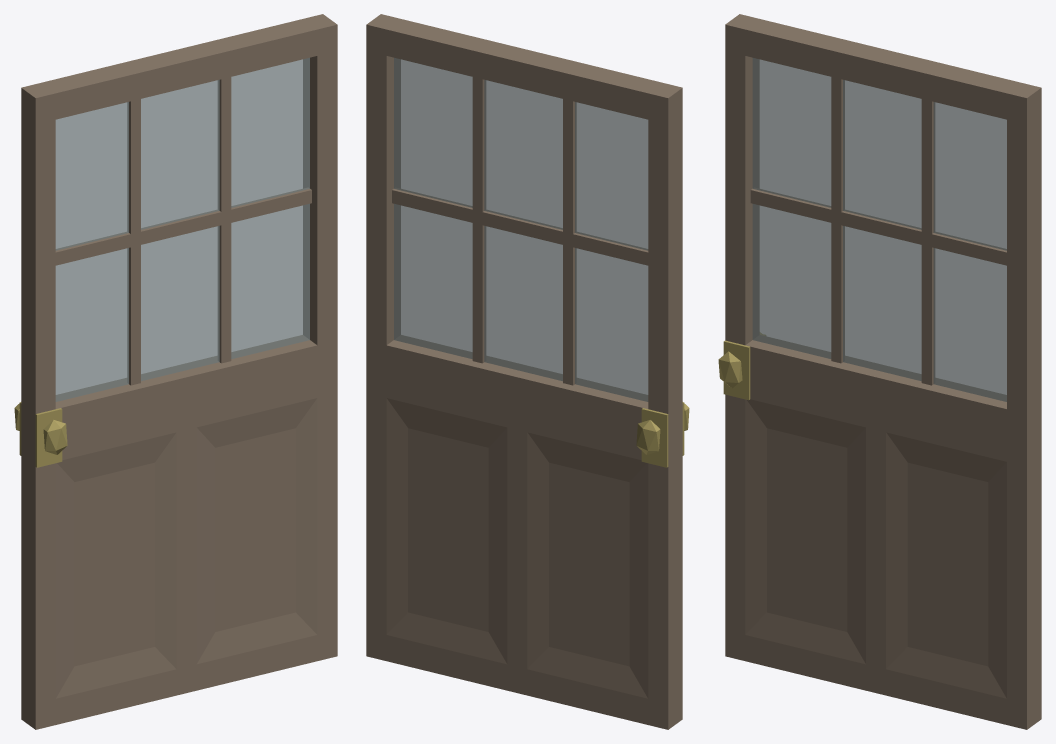
File: victorian_door_2.fbx
3 renders of one model, left to right at view 1: azimuth 30°, elevation 25°; view 2: azimuth 150°, elevation 25°; view 3: azimuth 330°, elevation 25°, orthographic.
Visible parts, largest first — view 1: door.003; view 2: door.003; view 3: door.003.
Part boxes in pixels (bbox=[...]): door.003: bbox=[14, 14, 337, 729]; door.003: bbox=[366, 14, 689, 729]; door.003: bbox=[718, 14, 1041, 729].
Bounding box in the file's own units: 120 × 240 × 24.33.
